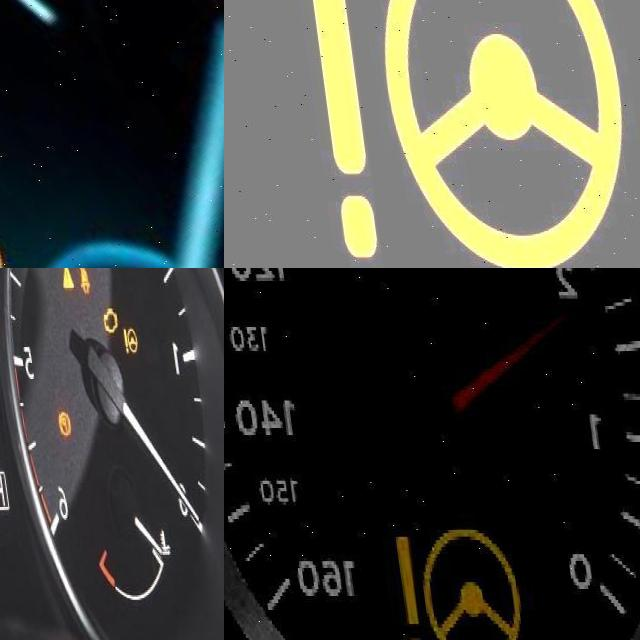Electronic Power Steering: (114, 327, 136, 358)
Electronic Power Steering Warning: (287, 0, 631, 268), (370, 528, 522, 640)
Seat Belt: (69, 268, 88, 295)
